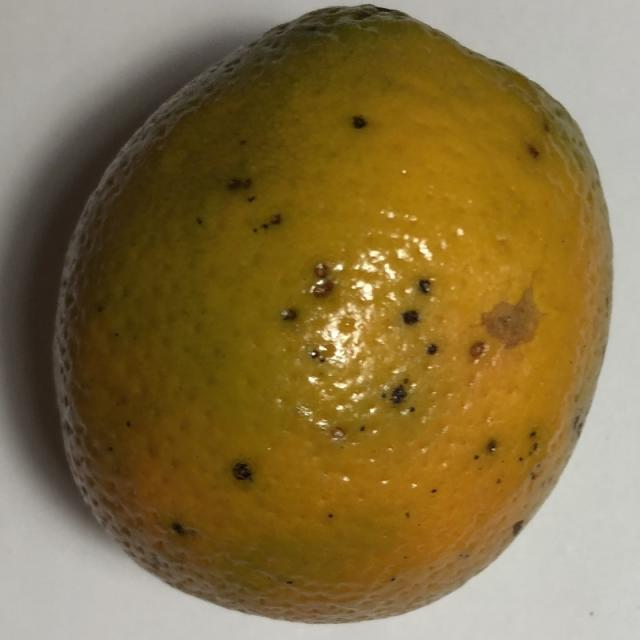blackspot: (38, 2, 622, 630)
